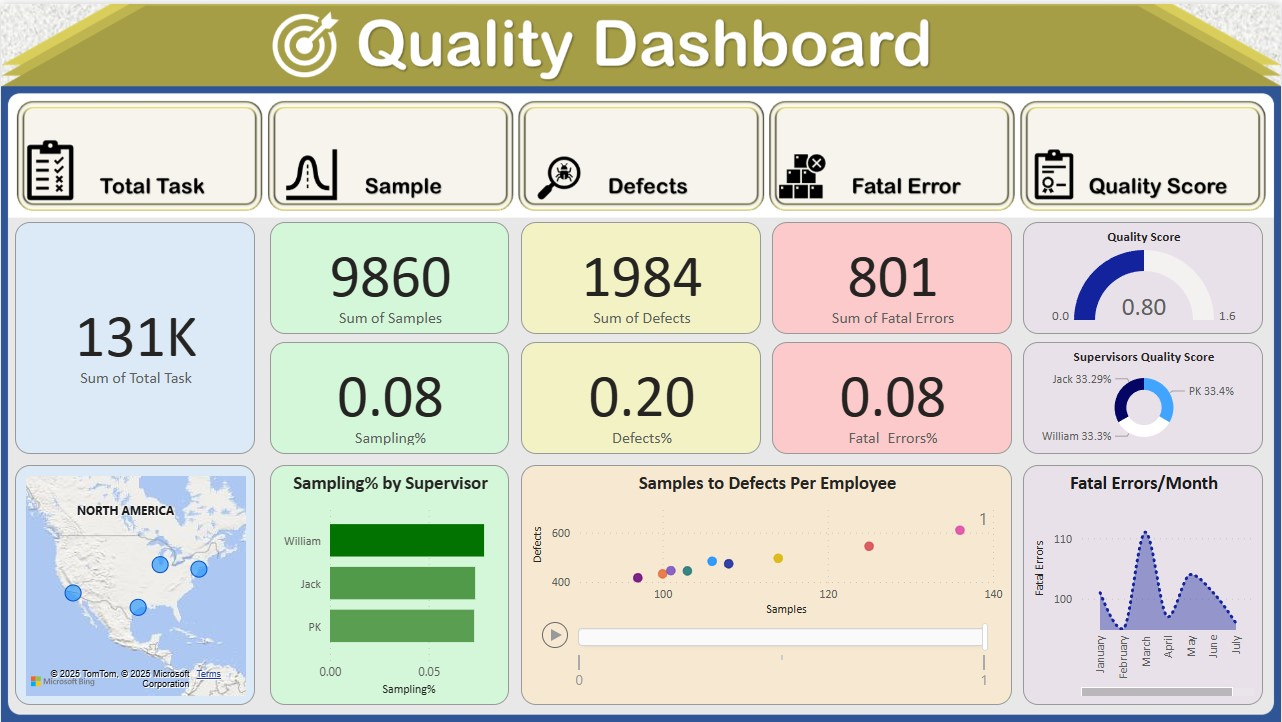

Layout of this report page (visuals, bound fields, positions):
{"tool":"powerbi","page":{"name":"Quality_Dashboard","canvas":[1280,720],"ordinal":0},"visuals":[{"type":"card","fields":{"Values":["Quality Data2.Total Task"]},"box":[14,217.8,239.7,232.7],"z":0},{"type":"card","fields":{"Values":["Quality Data2.Fatal Errors"]},"box":[770.9,217.8,239.7,112.4],"z":1000},{"type":"card","fields":{"Values":["Quality Data2.Defects"]},"box":[519.8,217.8,239.7,112.4],"z":2000},{"type":"card","fields":{"Values":["Quality Data2.Samples"]},"box":[268.7,217.8,239.7,112.4],"z":3000},{"type":"card","fields":{"Values":["Quality Data2.Sampling%"]},"box":[268.7,338,239.7,112.4],"z":4000},{"type":"card","fields":{"Values":["Quality Data2.Fatal_Errors%"]},"box":[770.9,338,239.7,112.4],"z":5000},{"type":"card","fields":{"Values":["Quality Data2.Defects%"]},"box":[519.8,338,239.7,112.4],"z":6000},{"type":"gauge","title":"Quality Score","fields":{"Y":["Quality Data2.Quality_Score"]},"box":[1022,217.8,240,112.4],"z":7000},{"type":"scatterChart","title":"Samples to Defects Per Employee","fields":{"Play":["Quality Data2.Fatal Errors"],"X":["Quality Data2.Defects"],"Y":["Quality Data2.Samples"],"Series":["Emp Master.EMP Name"]},"box":[519.8,461,490.8,239.7],"z":8000},{"type":"areaChart","title":"Fatal Errors/Month","fields":{"Category":["Quality Data2.Date.Variation.Date Hierarchy.Month"],"Y":["Quality Data2.Fatal Errors"]},"box":[1022,461,240,240],"z":9000},{"type":"donutChart","title":"Supervisors Quality Score","fields":{"Category":["Emp Master.Supervisor"],"Y":["Quality Data2.Quality_Score"]},"box":[1022,338,239.7,112.4],"z":10000},{"type":"clusteredBarChart","fields":{"Y":["Quality Data2.Sampling%"],"Category":["Emp Master.Supervisor"]},"box":[268.7,461,239.7,239.7],"z":11000},{"type":"map","fields":{"Category":["Emp Master.Work Location"],"Size":["Quality Data2.Quality_Score"]},"box":[14,461,240,240],"z":12000}]}

Visuals, with their boxes in screenshot pixels (x1, y1, x2, y2), scaled from the page's 1280x720 canvas onto the 1282x722 screenshot:
card - Quality Data2.Total Task: [14, 218, 254, 452]
card - Quality Data2.Fatal Errors: [772, 218, 1012, 331]
card - Quality Data2.Defects: [521, 218, 761, 331]
card - Quality Data2.Samples: [269, 218, 509, 331]
card - Quality Data2.Sampling%: [269, 339, 509, 452]
card - Quality Data2.Fatal_Errors%: [772, 339, 1012, 452]
card - Quality Data2.Defects%: [521, 339, 761, 452]
"Quality Score" gauge: [1024, 218, 1264, 331]
"Samples to Defects Per Employee" scatterChart: [521, 462, 1012, 703]
"Fatal Errors/Month" areaChart: [1024, 462, 1264, 703]
"Supervisors Quality Score" donutChart: [1024, 339, 1264, 452]
clusteredBarChart - Quality Data2.Sampling% x Emp Master.Supervisor: [269, 462, 509, 703]
map - Emp Master.Work Location x Quality Data2.Quality_Score: [14, 462, 254, 703]
